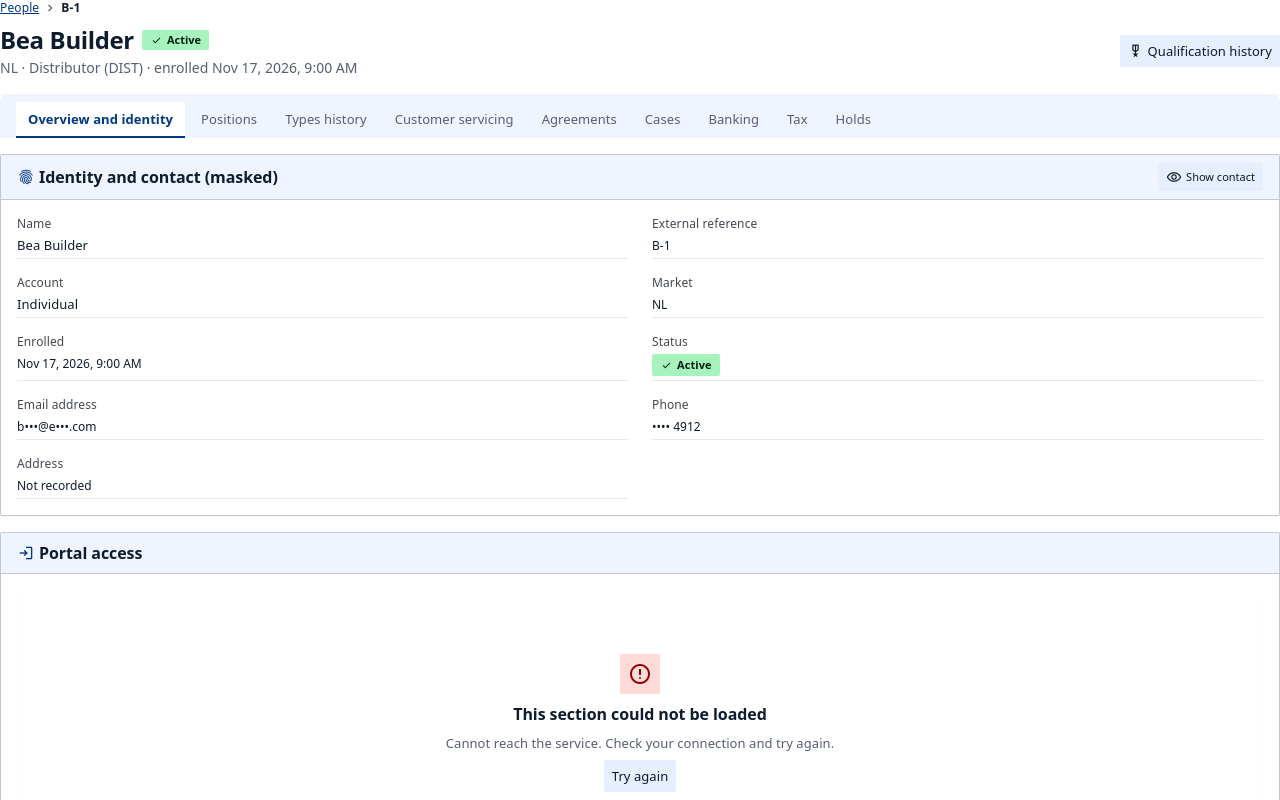
ParticipantRecord (SC-09) › shows contact only through the step-up dialog, with the chosen fields
The image size is (1280, 800).
Step 1. Click the button "Show contact" → (1211, 177), box [1158, 163, 1263, 191]
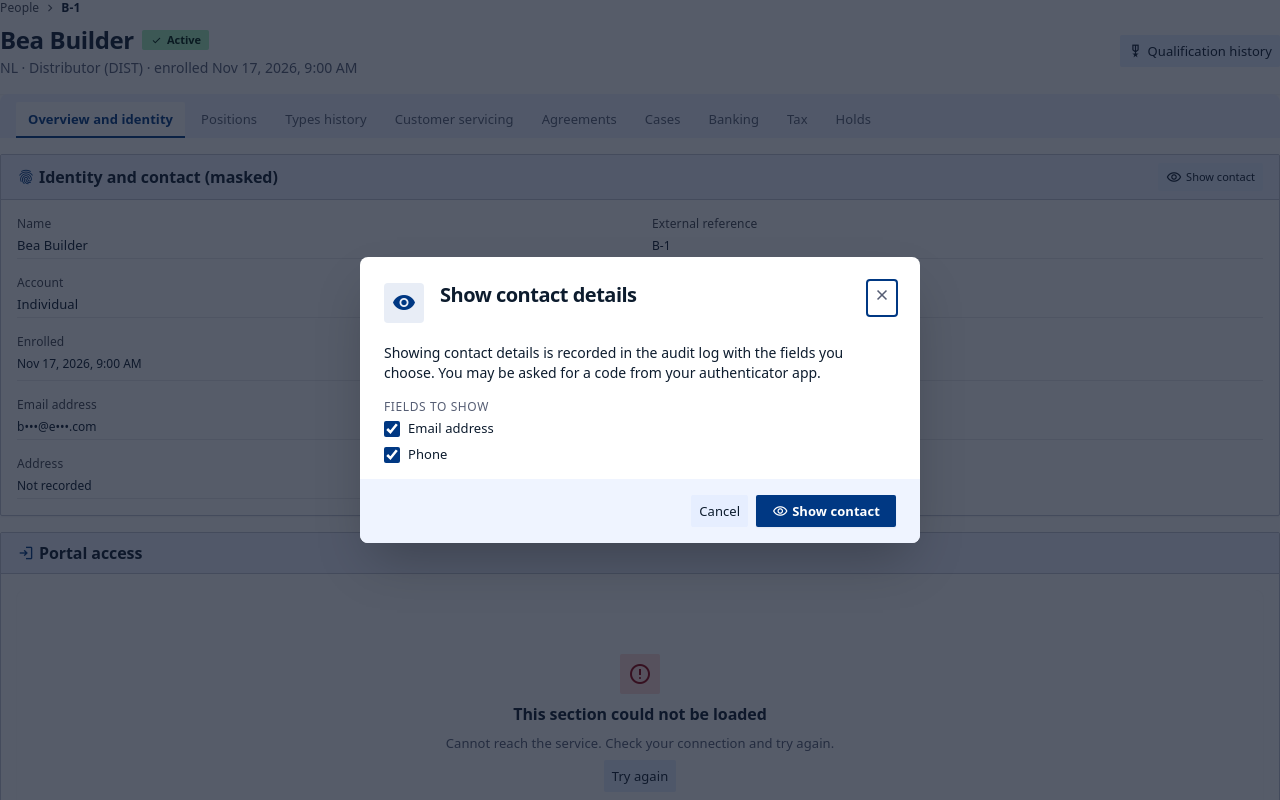
Step 2. Click the checkbox labelled "Phone" → (392, 455), box [384, 447, 400, 463]
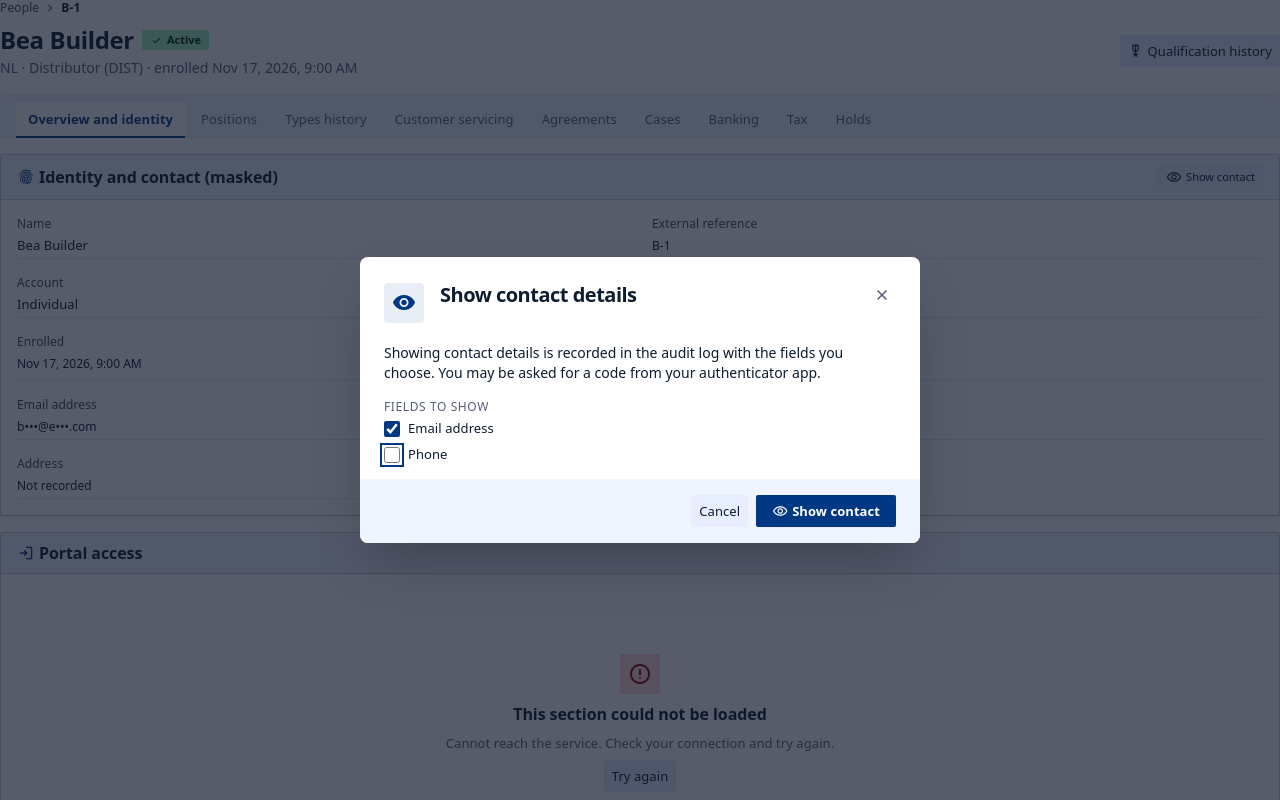
Step 3. Click the button "Show contact" → (826, 511), box [756, 495, 896, 527]
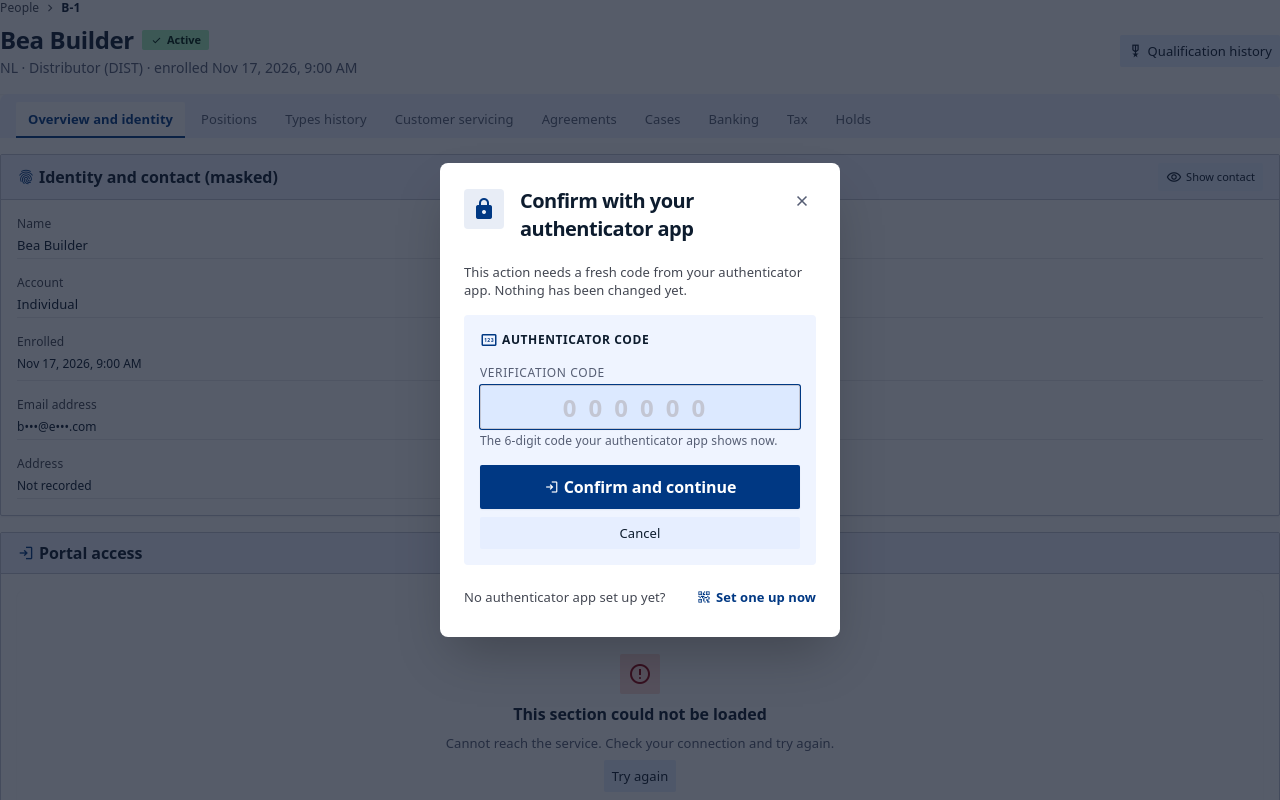
Step 4. Type "123456" into the field labelled "Verification code" → (640, 407), box [480, 385, 800, 429]
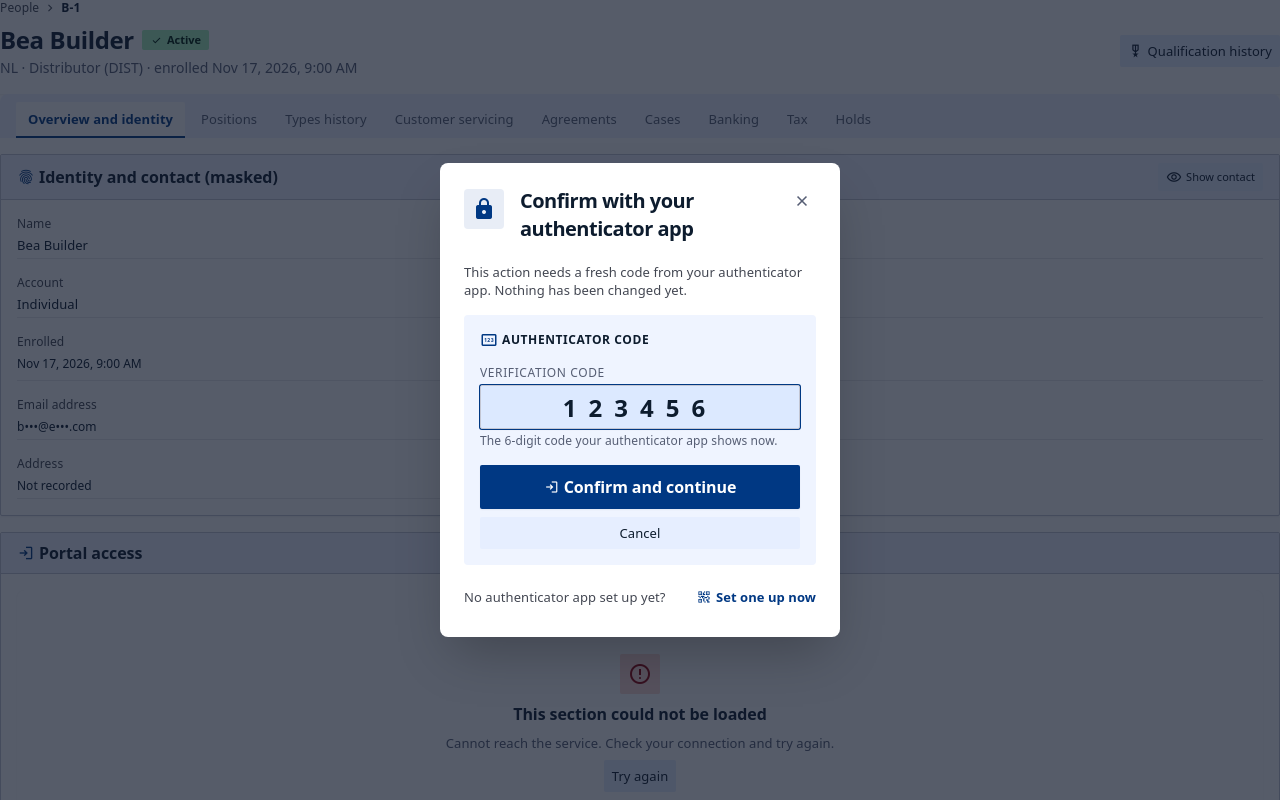
Step 5. Click the button "Confirm and continue" → (640, 487), box [480, 465, 800, 509]
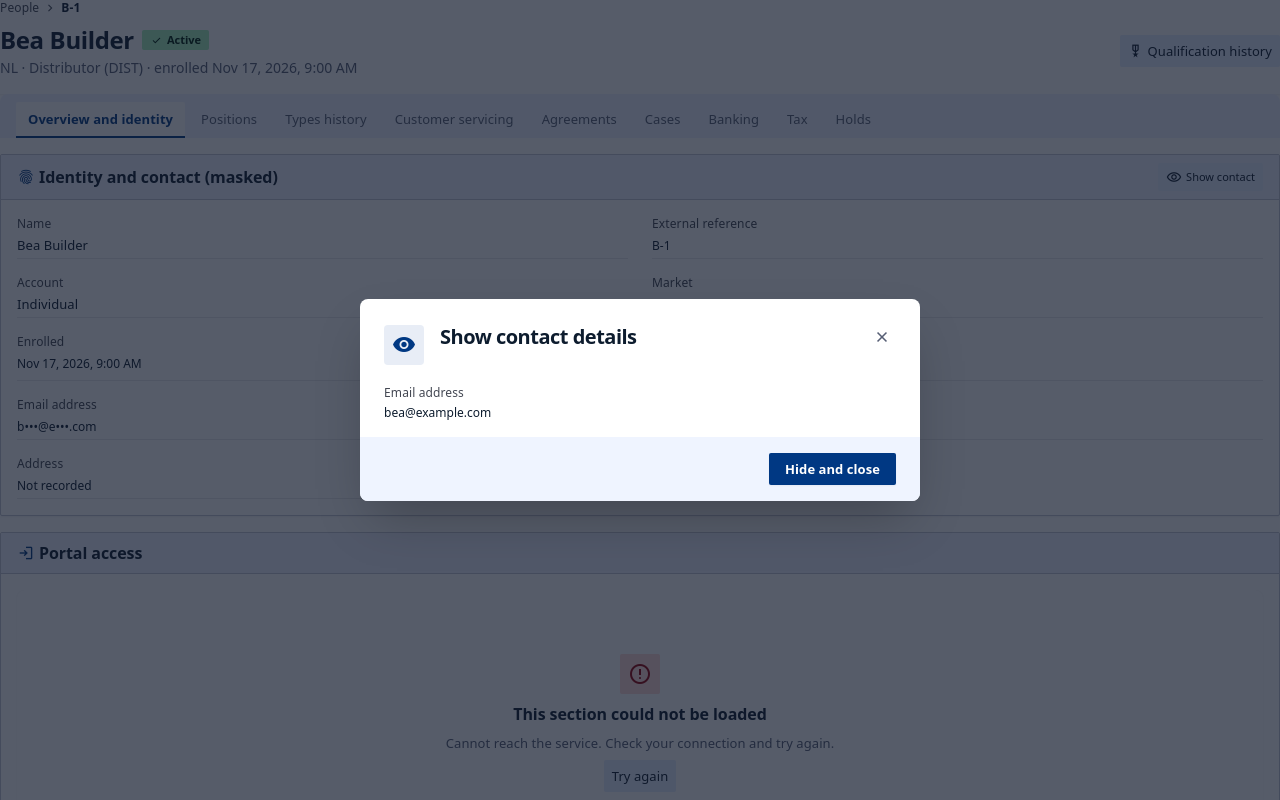
Check: the text "bea@example.com" is shown, box [384, 404, 491, 421]
Step 6. Click the button "Hide and close" → (832, 469), box [769, 453, 896, 485]
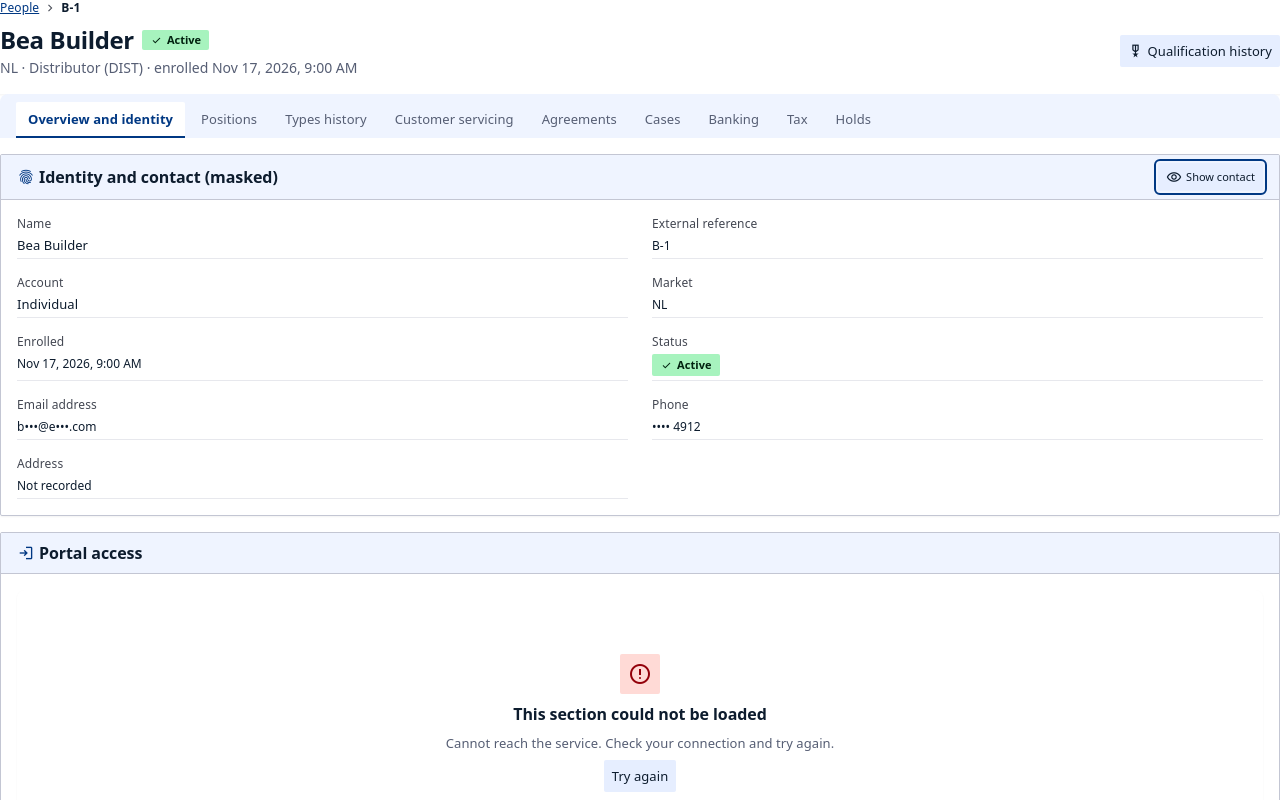
Check: the text "bea@example.com" is gone
